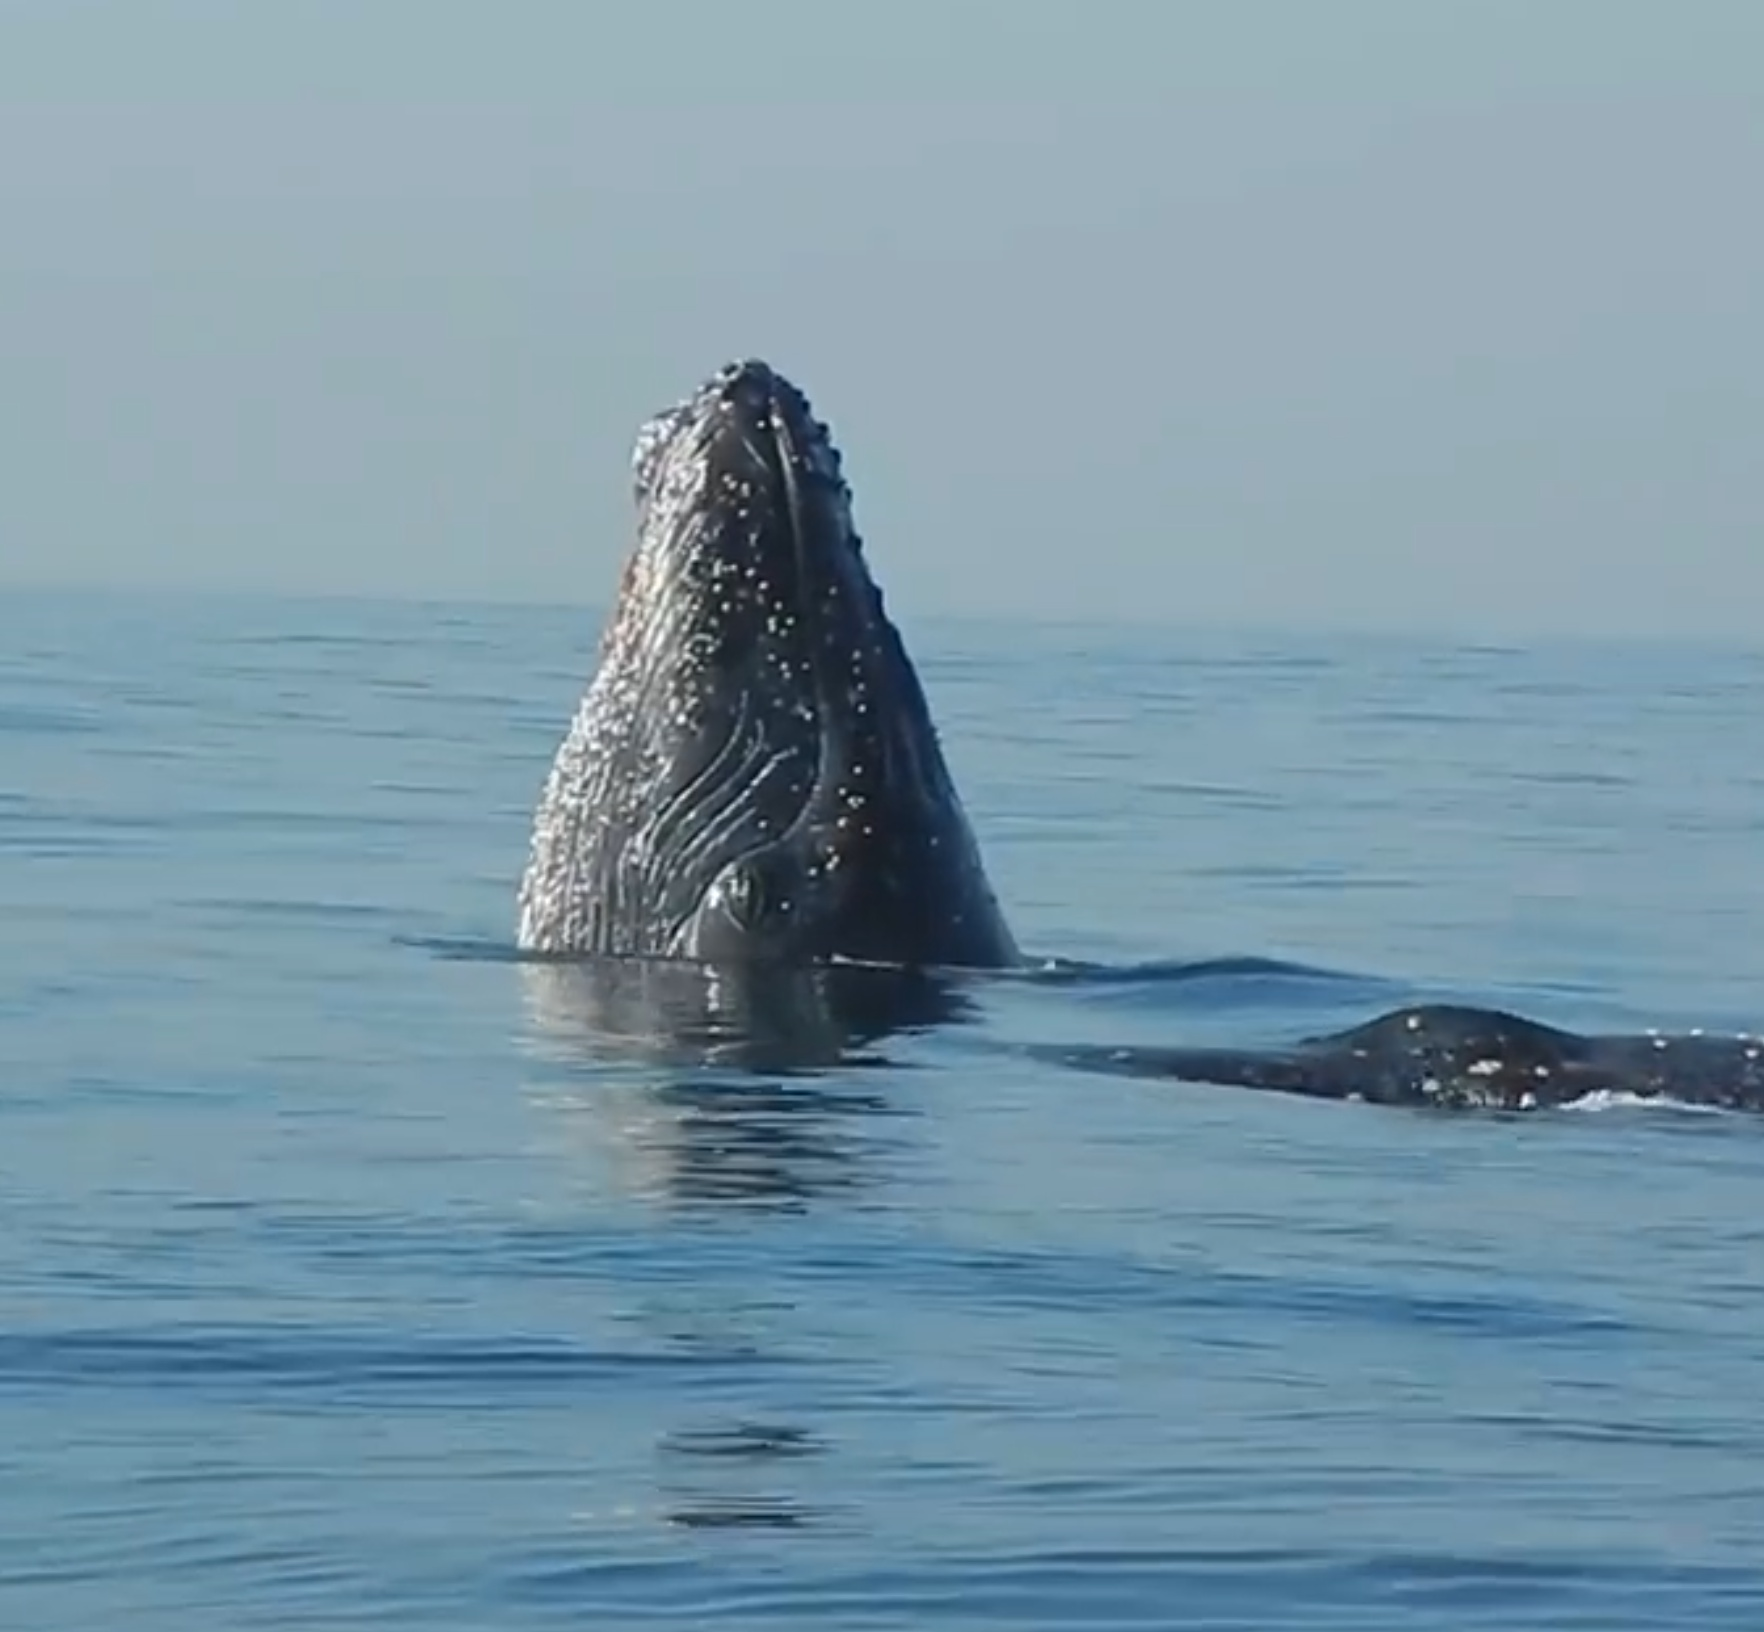humpback: (506, 338, 1028, 967)
